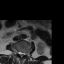CCS_normal: (20, 50, 22, 59)
LFS_normal: (25, 51, 27, 56)
LLS_normal: (22, 51, 25, 56)
RFS_normal: (16, 50, 19, 55)
RLS_normal: (18, 50, 20, 56)
